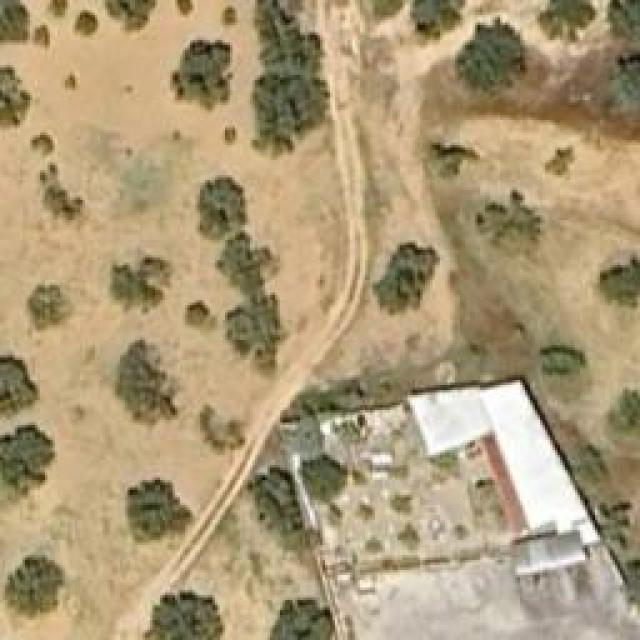Tree: (250, 70, 333, 158), (465, 188, 543, 263), (455, 20, 530, 95), (115, 340, 178, 425), (253, 0, 328, 68), (372, 243, 440, 316), (0, 423, 58, 508), (173, 38, 233, 111), (228, 295, 283, 373), (128, 478, 193, 543), (5, 555, 70, 618), (250, 465, 300, 533), (155, 592, 225, 640), (198, 175, 248, 240), (218, 230, 273, 288), (113, 257, 173, 305), (265, 600, 335, 640), (0, 0, 50, 55), (0, 65, 40, 133), (0, 355, 40, 420), (200, 405, 250, 453), (597, 252, 640, 307), (540, 0, 595, 40), (298, 457, 343, 505), (25, 285, 65, 338), (412, 0, 460, 38), (102, 0, 157, 32), (607, 390, 640, 437), (607, 0, 640, 45), (540, 345, 578, 380), (182, 298, 210, 328), (23, 133, 56, 158), (545, 147, 573, 175), (75, 13, 98, 36), (48, 0, 68, 18), (175, 0, 195, 18), (63, 72, 78, 90)
